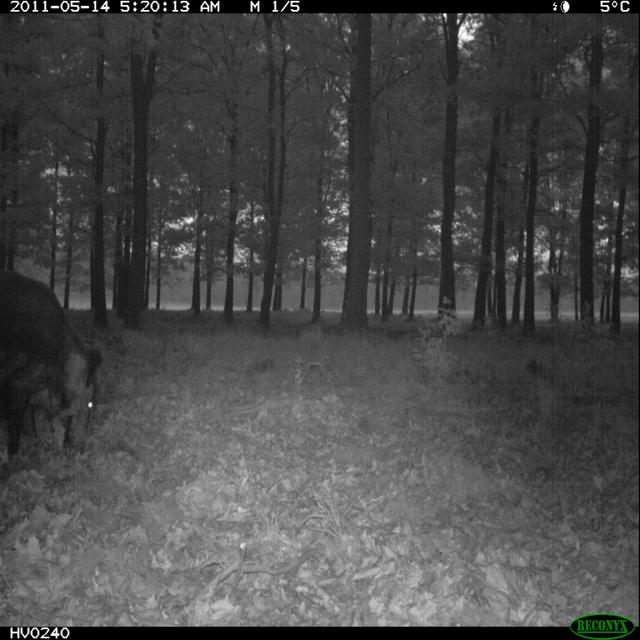boar: (0, 253, 116, 485)
